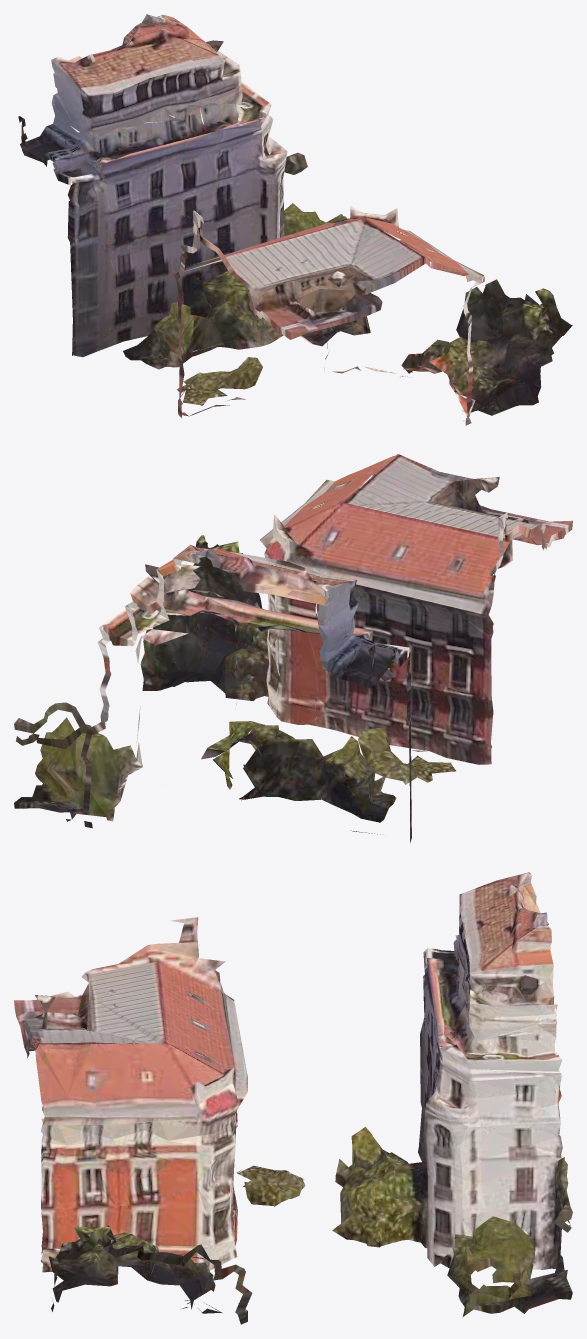
The picture shows the model from 3 angles, top to bottom: view 1: azimuth 30°, elevation 25°; view 2: azimuth 150°, elevation 25°; view 3: azimuth 270°, elevation 25°; orthographic projection. The views are drawn at different scales.
Parts seen in each view (by area): view 1: Mesh_0; view 2: Mesh_0; view 3: Mesh_0.
Part boxes in pixels (<box>): Mesh_0: <box>18,14,572,425</box>; Mesh_0: <box>14,454,572,842</box>; Mesh_0: <box>14,872,572,1324</box>.
Bounding box in the file's own units: 34.05 × 25.32 × 41.4.
2 materials, 2 textured.
